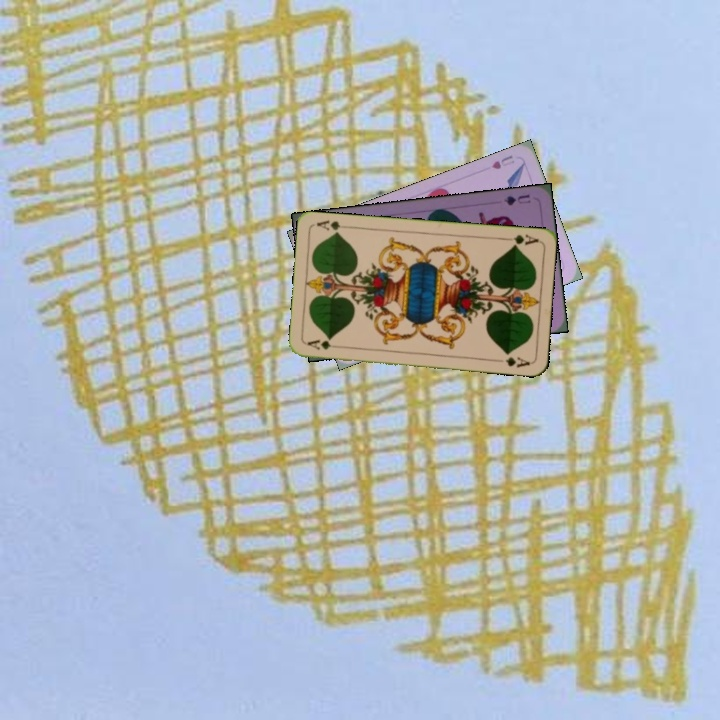GA: (500, 230, 540, 249), (303, 336, 344, 352)
GU: (500, 191, 533, 208)
HU: (487, 151, 517, 172)
